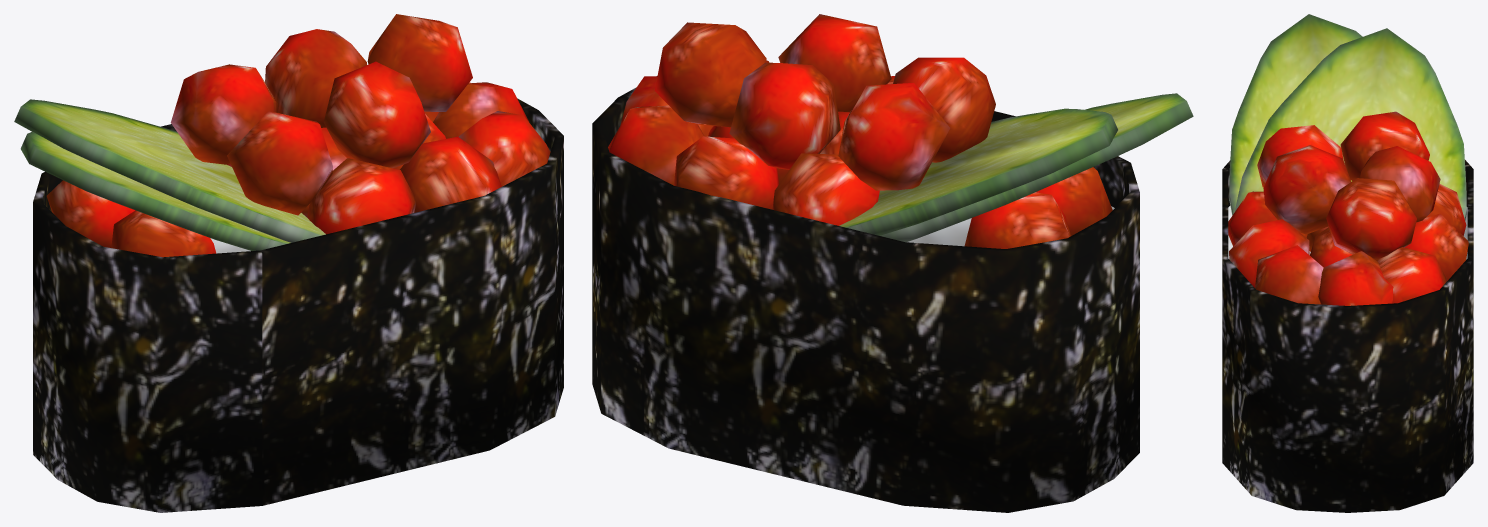
Rendered from salmonroe_2.fbx.
The picture shows the model from 3 angles, left to right: view 1: azimuth 30°, elevation 25°; view 2: azimuth 150°, elevation 25°; view 3: azimuth 270°, elevation 25°; orthographic projection. The views are drawn at different scales.
Visible parts, largest first — view 1: salmonroe_2; view 2: salmonroe_2; view 3: salmonroe_2.
Boxes of the visible parts, left/top/right/bottom form: salmonroe_2: left=14, top=14, right=563, bottom=512; salmonroe_2: left=592, top=14, right=1193, bottom=512; salmonroe_2: left=1222, top=14, right=1473, bottom=512.
Size of the model in its own units: 6.23 by 4.01 by 3.14.
